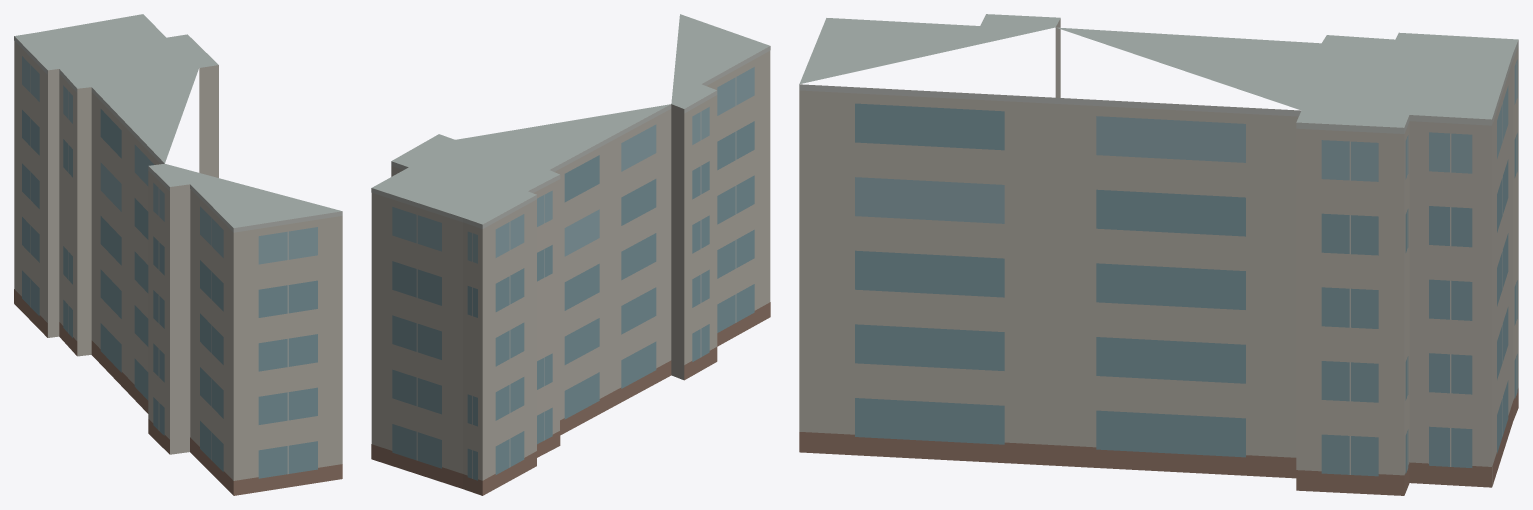
Rendered from survey-upis-32662468.glb.
3 renders of one model, left to right at view 1: azimuth 30°, elevation 25°; view 2: azimuth 150°, elevation 25°; view 3: azimuth 270°, elevation 25°, orthographic. The views are drawn at different scales.
Parts seen in each view (by area): view 1: survey-upis-32662468.tmp; view 2: survey-upis-32662468.tmp; view 3: survey-upis-32662468.tmp.
Boxes of the visible parts, x1,y1,x2,y2 form: survey-upis-32662468.tmp: (14,14,342,495); survey-upis-32662468.tmp: (371,14,770,495); survey-upis-32662468.tmp: (799,14,1518,495).
Size of the model in its own units: 9.63 by 14.5 by 25.69.
